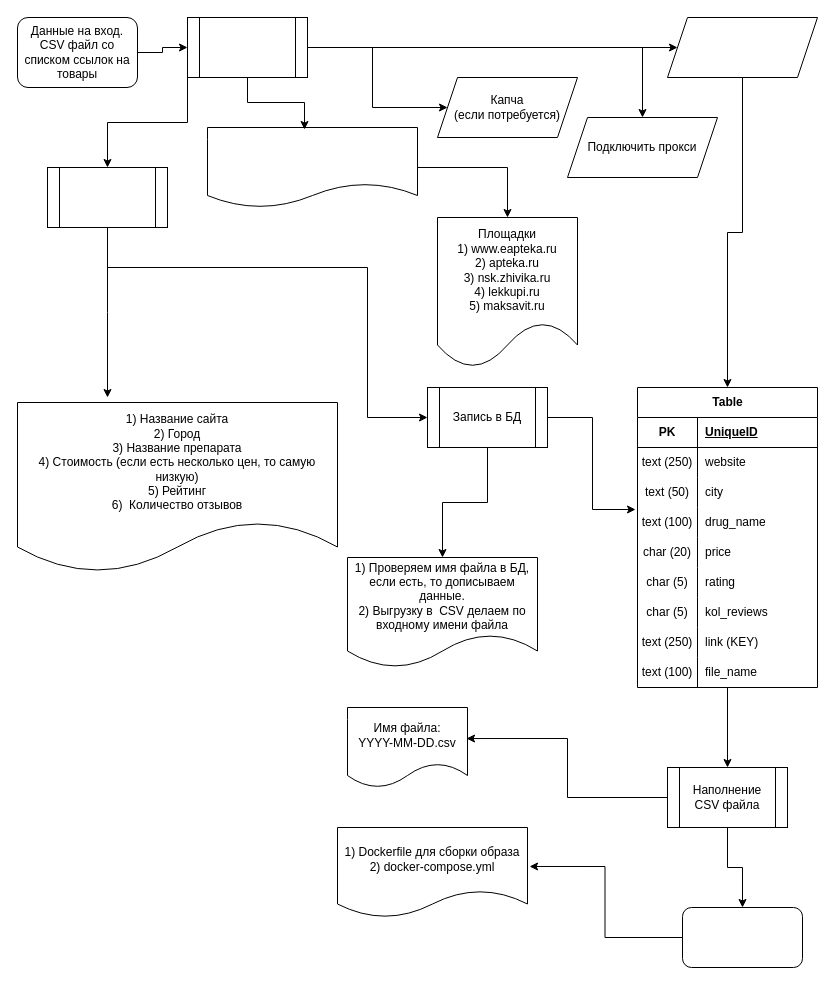
Image size: 835x985. Some labels were removed from this diagram. Each missing label, with the centre of its shape:
1) определить город 2) определить площадку 3) запустить ветвь согласно площадке: point (312, 167)
Обернуть проект в Docker: point (742, 937)
Парсинг: point (107, 197)
Подключить БД: point (742, 47)
Разбор входного файла: point (247, 47)
